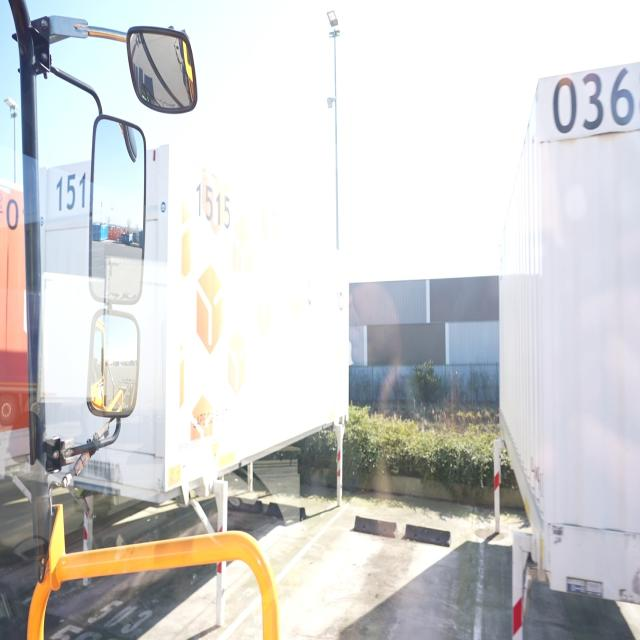Code: (194, 170, 237, 236)
